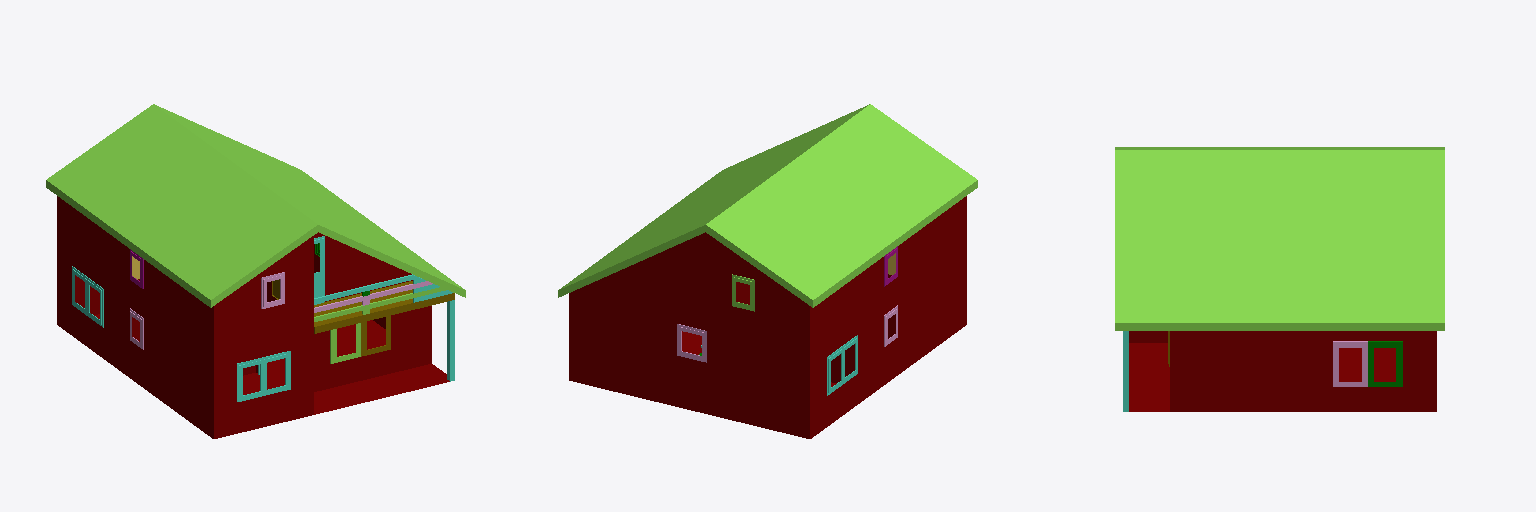
3 renders of one model, left to right at view 1: azimuth 30°, elevation 25°; view 2: azimuth 150°, elevation 25°; view 3: azimuth 270°, elevation 25°, orthographic.
Visible parts, largest first — view 1: Layer0_001, Group_018, Group_014, Maison_fenetre_150x110_001, Maison_fenetre_150x110_002, Group_026, Group_029, Group_028, Group_027; view 2: Layer0_001, Group_018, Maison_fenetre_150x110_002, Maison_fenetre_70x90_1_001; view 3: Group_018, Layer0_001, Maison_fenetre_90x220_003, Maison_fenetre_90x220_004.
Boxes of the visible parts, <box> form: Layer0_001: <box>57,196,449,438</box>; Group_018: <box>46,104,465,307</box>; Group_014: <box>314,281,454,333</box>; Maison_fenetre_150x110_001: <box>237,351,290,401</box>; Maison_fenetre_150x110_002: <box>72,266,103,327</box>; Group_026: <box>314,287,446,321</box>; Group_029: <box>447,300,454,381</box>; Group_028: <box>314,281,432,312</box>; Group_027: <box>314,274,418,303</box>; Layer0_001: <box>569,196,966,438</box>; Group_018: <box>558,104,977,307</box>; Maison_fenetre_150x110_002: <box>827,335,857,395</box>; Maison_fenetre_70x90_1_001: <box>677,324,706,362</box>; Group_018: <box>1115,147,1444,330</box>; Layer0_001: <box>1129,331,1436,411</box>; Maison_fenetre_90x220_003: <box>1368,341,1402,386</box>; Maison_fenetre_90x220_004: <box>1333,341,1367,386</box>.
Bounding box in the file's own units: 299 × 217 × 335.